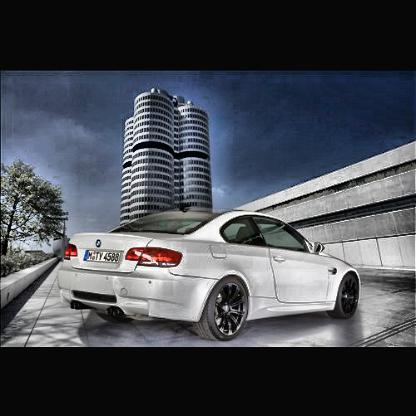BMW M3 Coupe 2012: (58, 209, 365, 340)
